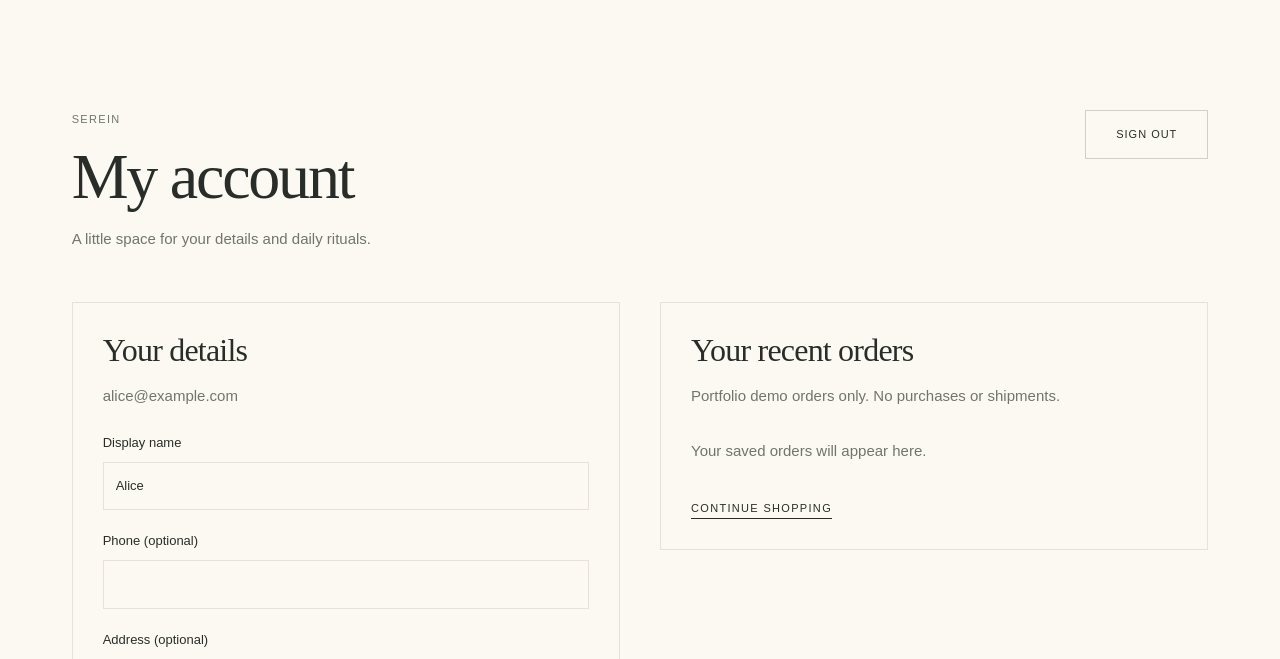
Test case: saves the profile to the API without sending a client-controlled account id
The width and height of the screenshot is (1280, 659).
Replace the text in the field labelled "Display name" with "Alice Updated" at x=346, y=486, box top-left (103, 462), bottom-right (589, 510)
(page scrolled)
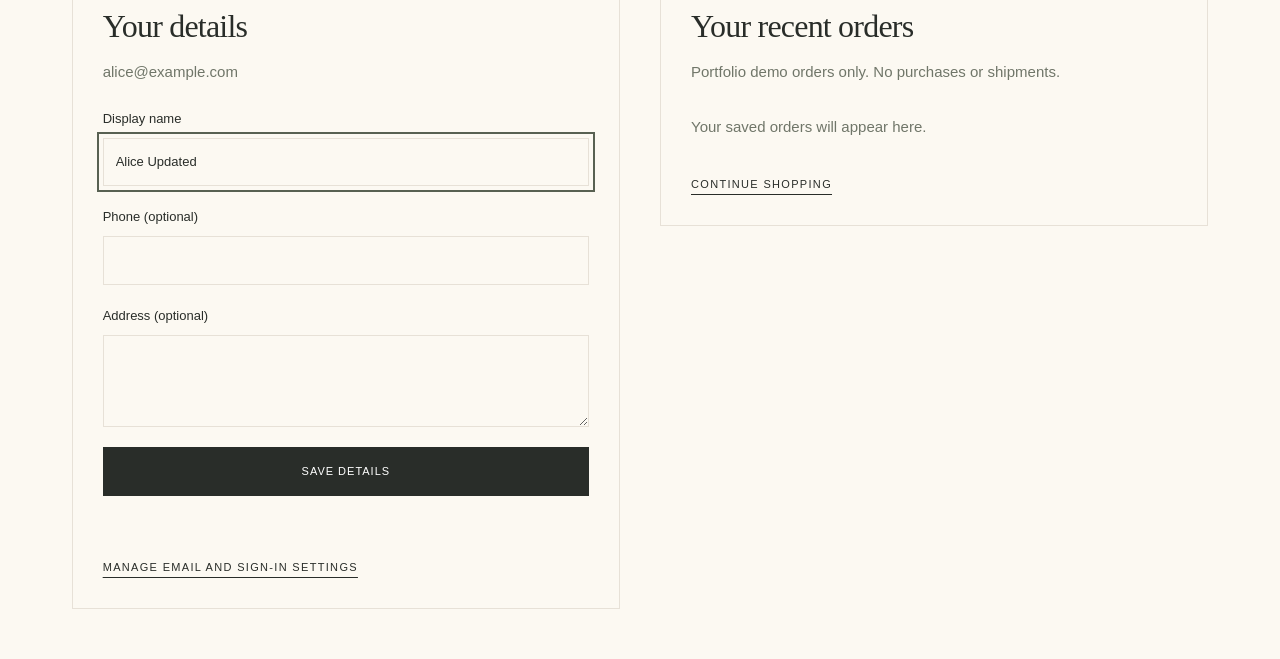
Click the button "Save details" at x=346, y=471, box top-left (103, 447), bottom-right (589, 496)
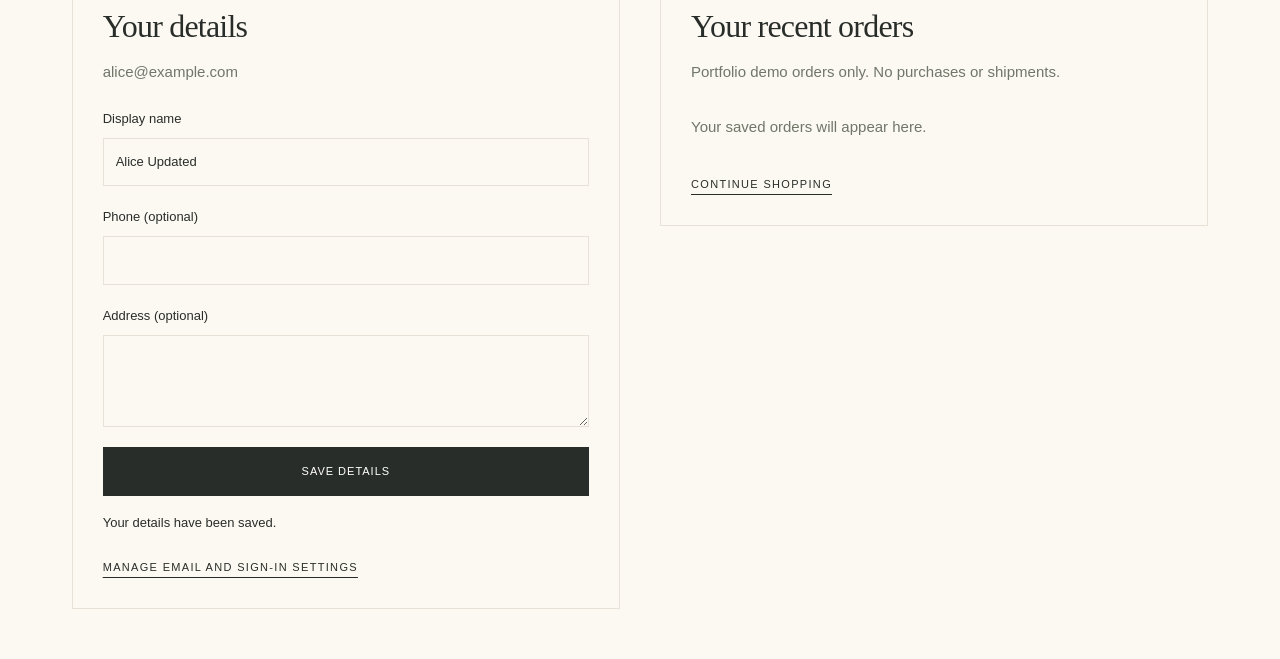
Expected: the text "Your details have been saved." is shown, top-left (103, 515), bottom-right (276, 530)
